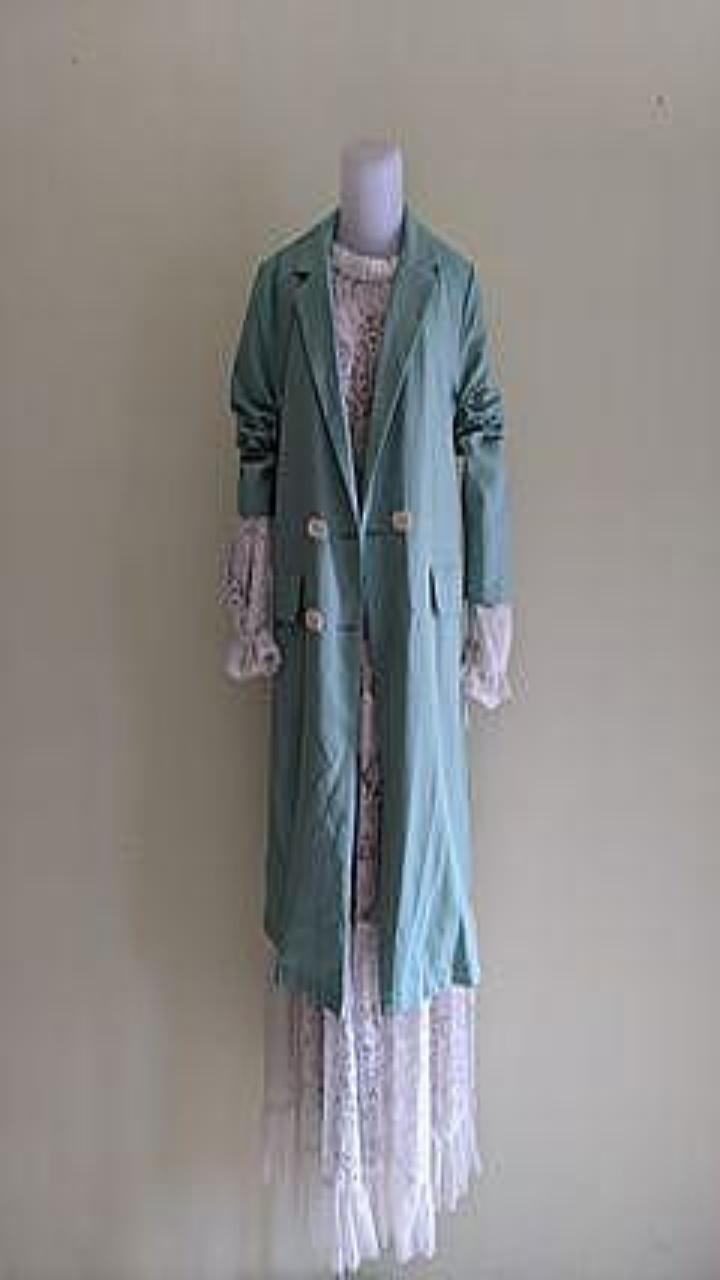Coat: (231, 201, 509, 1012)
Dresses: (264, 625, 481, 1274)
